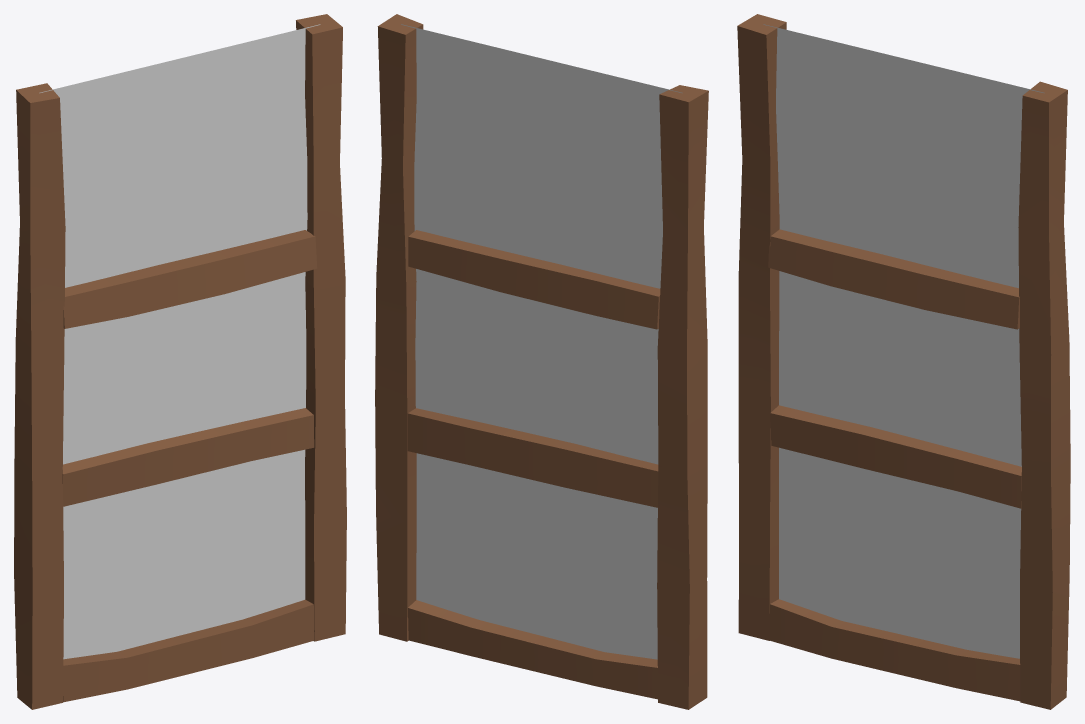
The model's file is PlasterHalfWall2.fbx.
3 renders of one model, left to right at view 1: azimuth 30°, elevation 25°; view 2: azimuth 150°, elevation 25°; view 3: azimuth 330°, elevation 25°, orthographic.
Visible parts, largest first — view 1: PlasterHalfWall2; view 2: PlasterHalfWall2; view 3: PlasterHalfWall2.
Part boxes in pixels (<box>): PlasterHalfWall2: <box>14,14,346,709</box>; PlasterHalfWall2: <box>375,14,708,709</box>; PlasterHalfWall2: <box>737,14,1070,709</box>.
Size of the model in its own units: 112 by 207 by 13.97.
